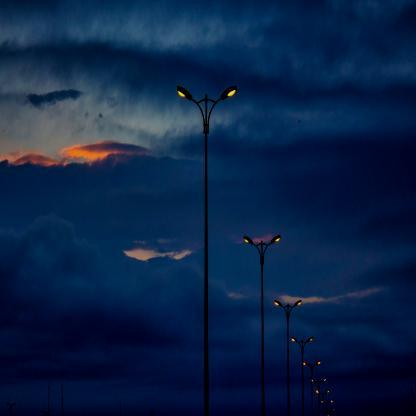light_pole: (176, 85, 238, 416), (244, 234, 281, 416), (274, 299, 302, 416), (291, 336, 313, 416), (303, 360, 321, 416), (311, 378, 326, 416), (316, 389, 330, 416), (321, 400, 334, 415), (324, 408, 336, 415)
